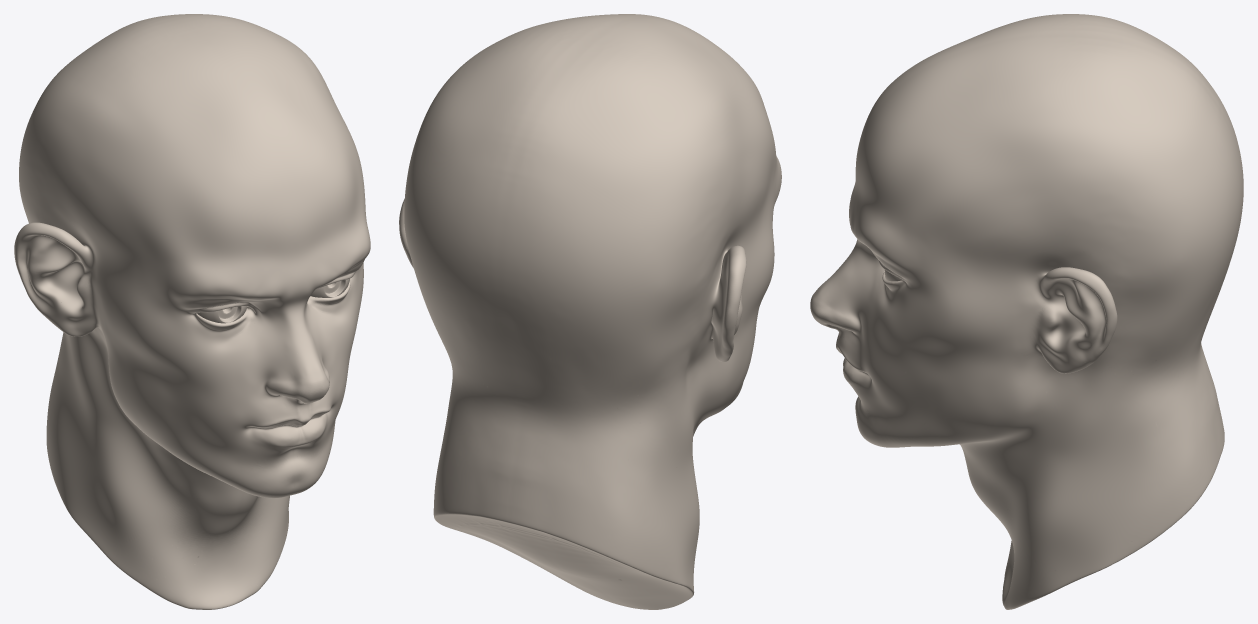
Rendered from male_head_nov._10.glb.
3 views of the same model, side by side, from view 1: azimuth 30°, elevation 25°; view 2: azimuth 150°, elevation 25°; view 3: azimuth 270°, elevation 25° (orthographic). The views are drawn at different scales.
Visible parts, largest first — view 1: Object_6, Object_9, Object_8, Object_7, Object_5, Object_10, Object_4, Object_3, Object_2; view 2: Object_4, Object_3, Object_7, Object_8, Object_10, Object_5, Object_6, Object_9; view 3: Object_3, Object_5, Object_4, Object_6, Object_10, Object_7, Object_8.
Boxes of the visible parts, <box> form: Object_6: <box>28,32,361,601</box>; Object_9: <box>64,68,315,609</box>; Object_8: <box>14,36,292,584</box>; Object_7: <box>14,19,351,609</box>; Object_5: <box>27,35,370,562</box>; Object_10: <box>16,14,370,608</box>; Object_4: <box>21,14,306,525</box>; Object_3: <box>23,14,311,138</box>; Object_2: <box>197,278,349,323</box>; Object_4: <box>404,22,761,575</box>; Object_3: <box>399,24,708,492</box>; Object_7: <box>505,33,761,606</box>; Object_8: <box>507,17,777,600</box>; Object_10: <box>401,14,780,608</box>; Object_5: <box>515,14,744,600</box>; Object_6: <box>512,14,781,603</box>; Object_9: <box>627,50,781,609</box>; Object_3: <box>955,15,1243,573</box>; Object_5: <box>854,14,1093,601</box>; Object_4: <box>1000,14,1243,597</box>; Object_6: <box>810,37,1058,609</box>; Object_10: <box>811,14,1243,606</box>; Object_7: <box>813,14,1238,609</box>; Object_8: <box>869,16,1221,418</box>.
Bounding box in the file's own units: 7.6 × 12.67 × 8.8.
